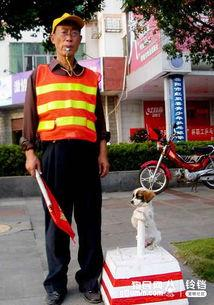up: (15, 6, 122, 304)
